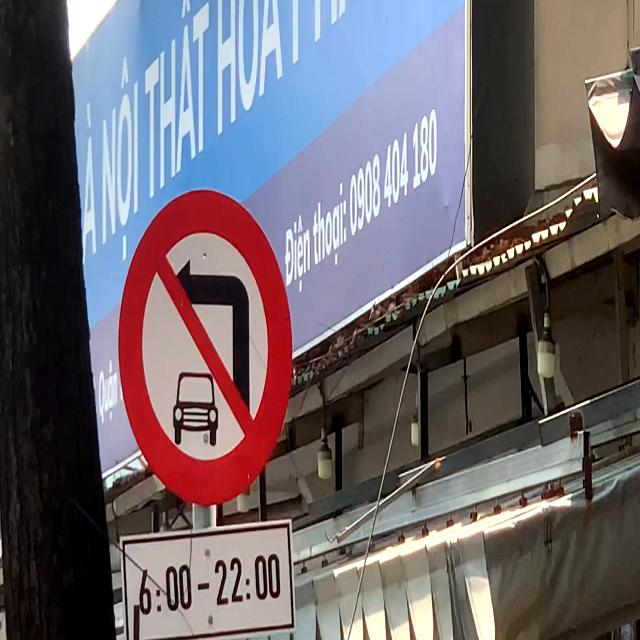P.103c: (118, 188, 293, 508)
